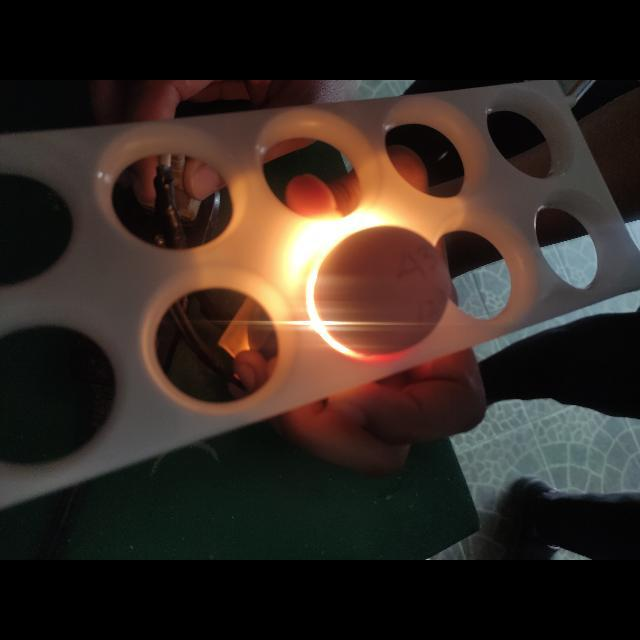Fertile: (316, 230, 454, 364)
